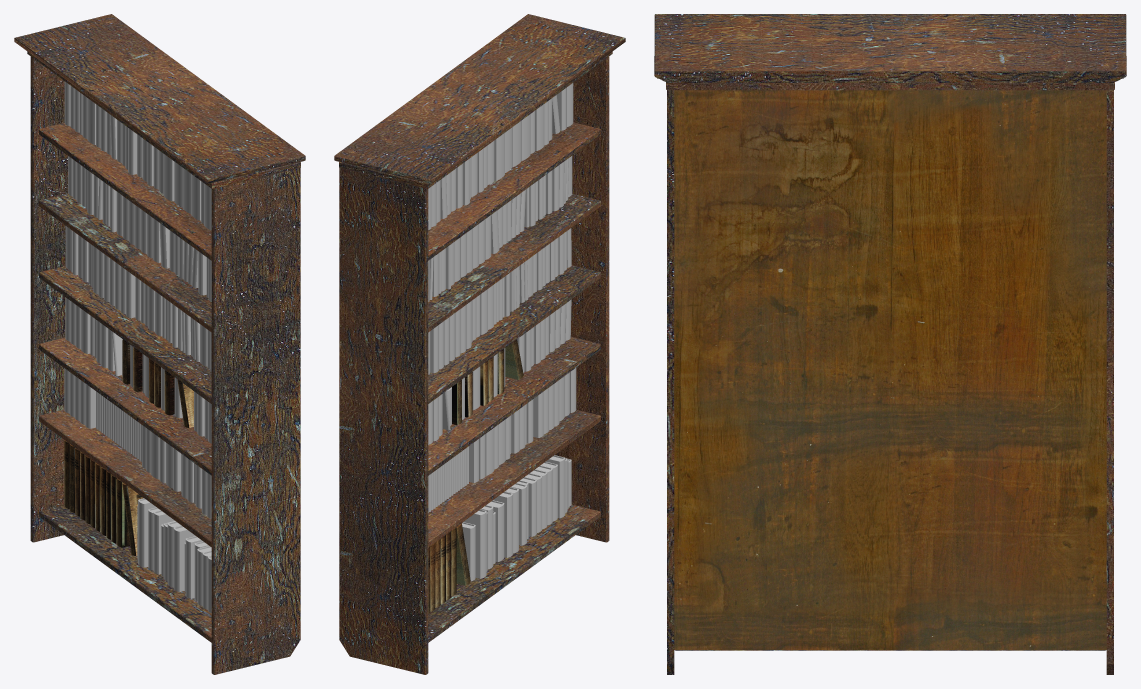
The model's file is bookshelf_v01.fbx.
3 views of the same model, side by side, from view 1: azimuth 30°, elevation 25°; view 2: azimuth 150°, elevation 25°; view 3: azimuth 270°, elevation 25° (orthographic). The views are drawn at different scales.
Parts seen in each view (by area): view 1: bookshelf_wood, bookshelf_books_03, bookshelf_books_02, bookshelf_books_01; view 2: bookshelf_wood, bookshelf_books_03, bookshelf_books_02, bookshelf_books_01; view 3: bookshelf_back, bookshelf_wood.
Boxes of the visible parts, x1,y1,x2,y2 form: bookshelf_wood: (14, 14, 305, 674); bookshelf_books_03: (64, 81, 211, 371); bookshelf_books_02: (64, 297, 211, 612); bookshelf_books_01: (64, 339, 193, 555); bookshelf_wood: (334, 14, 625, 674); bookshelf_books_03: (428, 83, 573, 374); bookshelf_books_02: (428, 299, 576, 581); bookshelf_books_01: (428, 339, 523, 613); bookshelf_back: (674, 90, 1106, 649); bookshelf_wood: (654, 14, 1126, 674).
Size of the model in its own units: 43.65 by 215 by 151.
